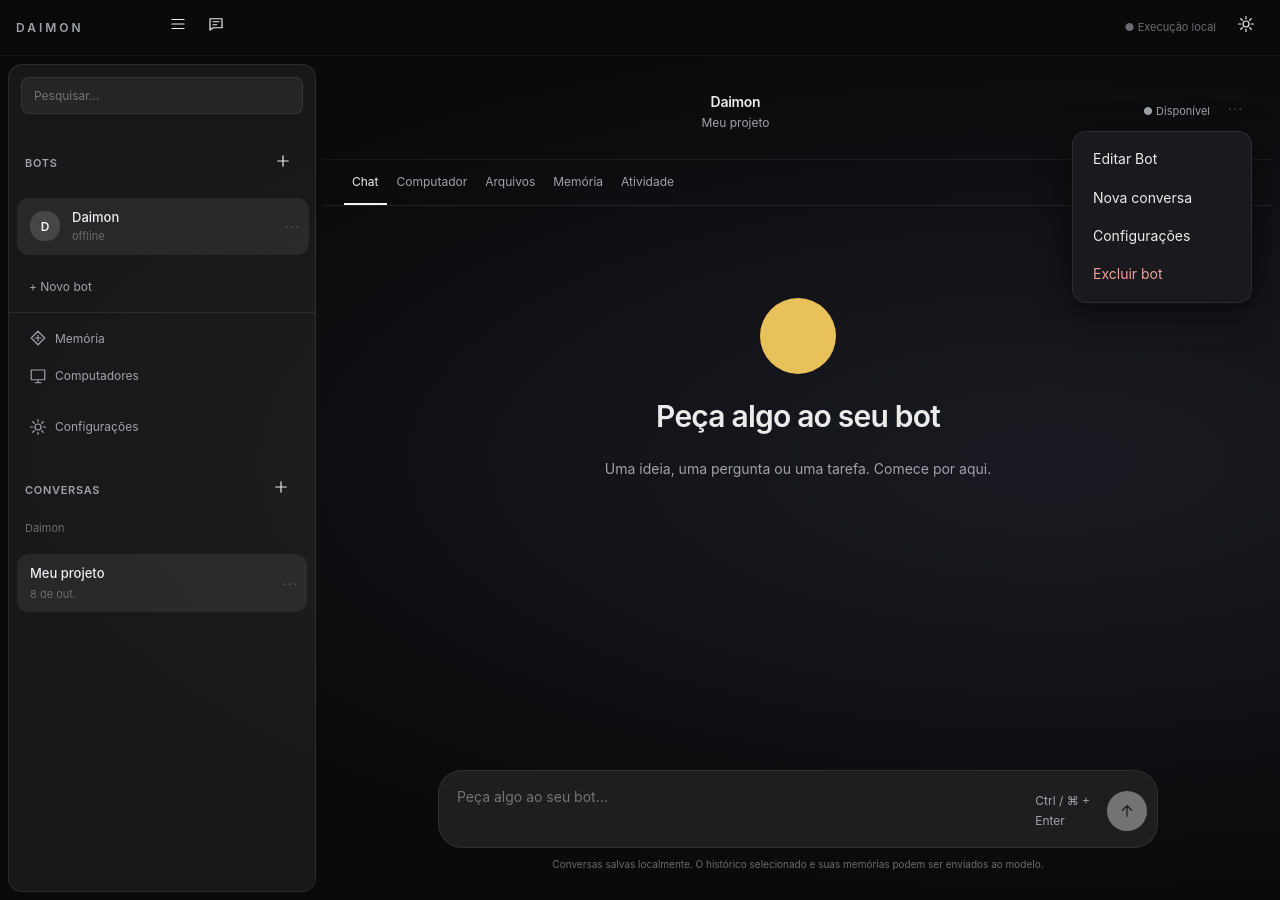
Test: closes the header menu when opening settings without changing the bookmark
Expected: the button "Meu projeto 8 de out." is shown, [17, 554, 307, 612]
Expected: the heading "Daimon" is shown, [711, 93, 760, 110]
Step 1. Click the button "Configurações" below "Disponível" → [1162, 236], box [1081, 217, 1243, 255]
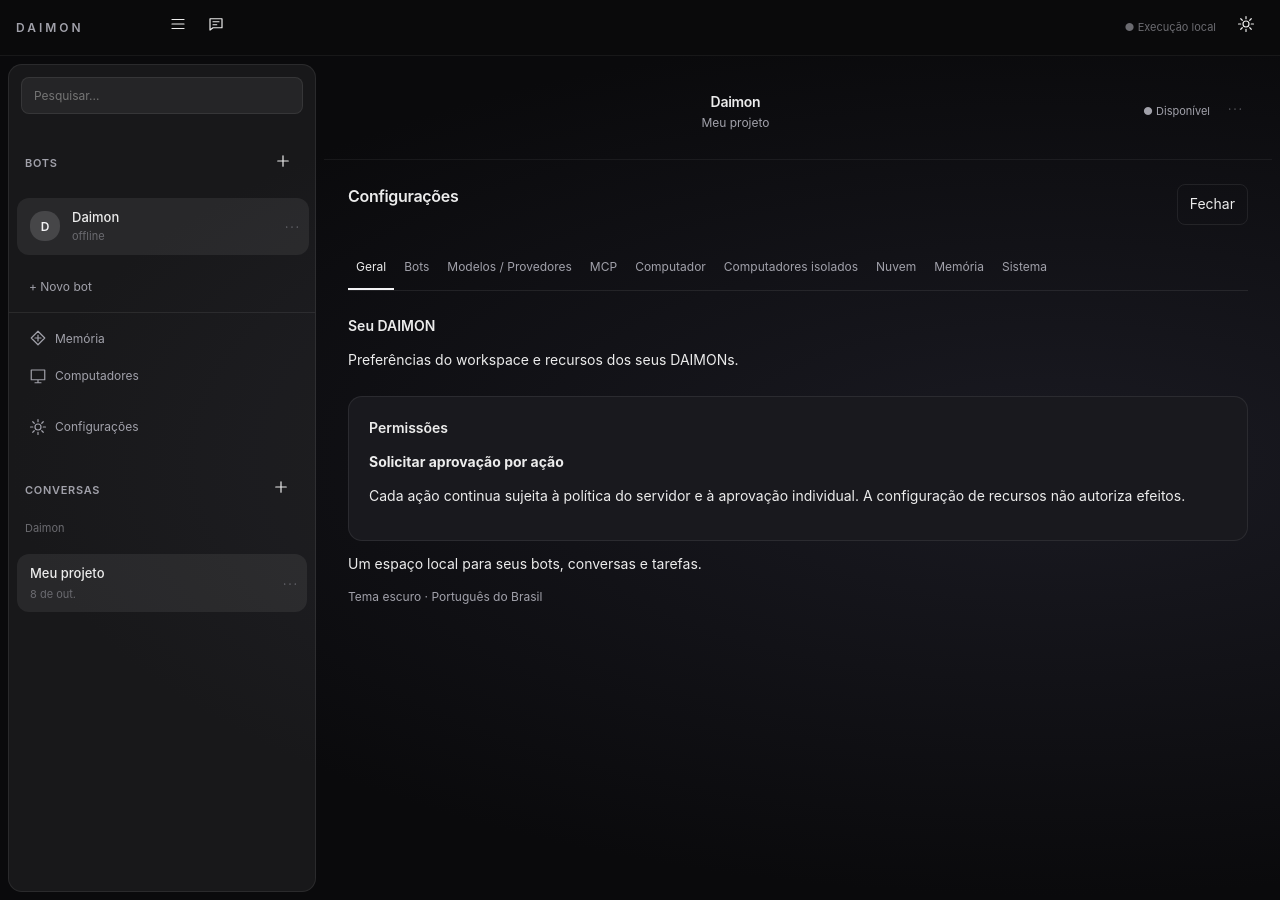
Result: the tab "Modelos / Provedores" is shown at [439, 245, 580, 290]
